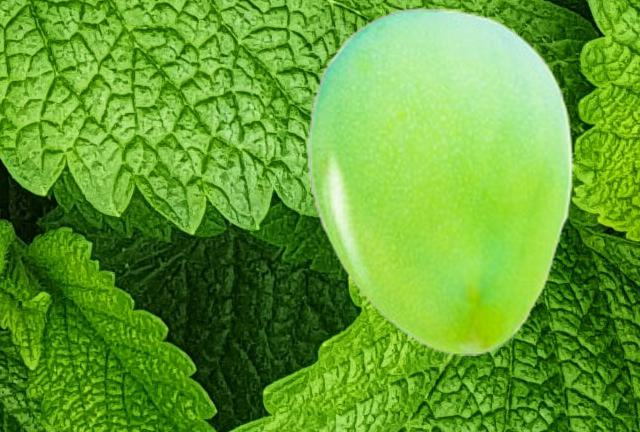green_mango: (306, 7, 572, 354)
